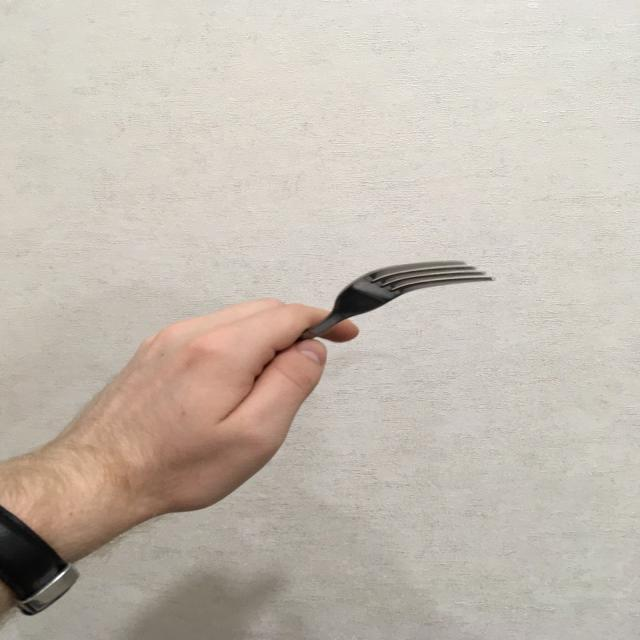fork: (258, 253, 493, 376)
